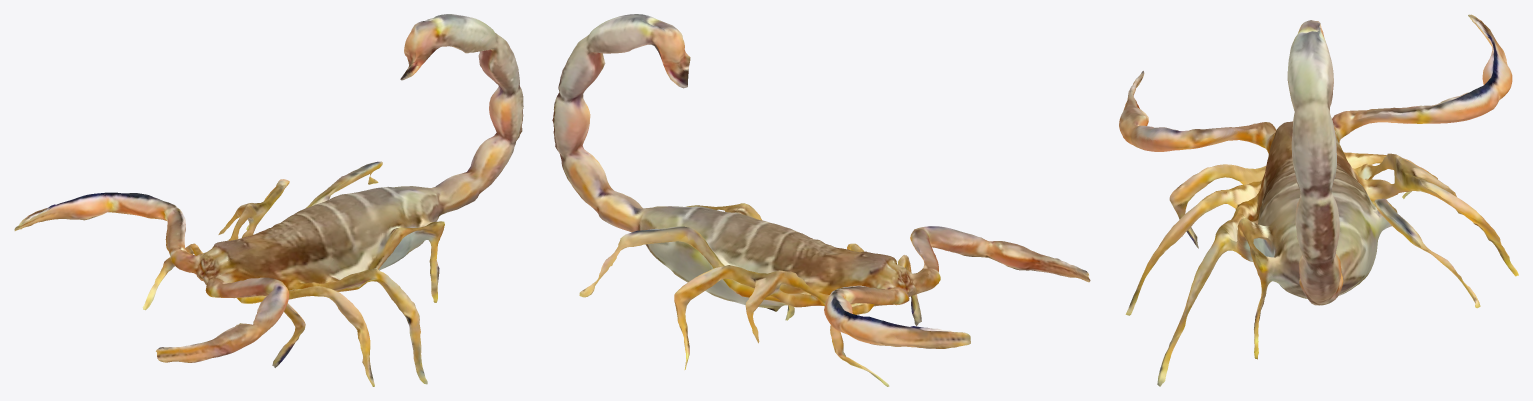
The model's file is nm__scorpion2.glb.
3 renders of one model, left to right at view 1: azimuth 30°, elevation 25°; view 2: azimuth 150°, elevation 25°; view 3: azimuth 270°, elevation 25°, orthographic. The views are drawn at different scales.
Parts seen in each view (by area): view 1: Object_4; view 2: Object_4; view 3: Object_4.
Boxes of the visible parts, <box> form: Object_4: <box>14,14,523,386</box>; Object_4: <box>552,14,1090,386</box>; Object_4: <box>1119,14,1518,386</box>.
Bounding box in the file's own units: 0.553 × 0.364 × 0.3279.
Materials: 1 (1 with a texture image).
